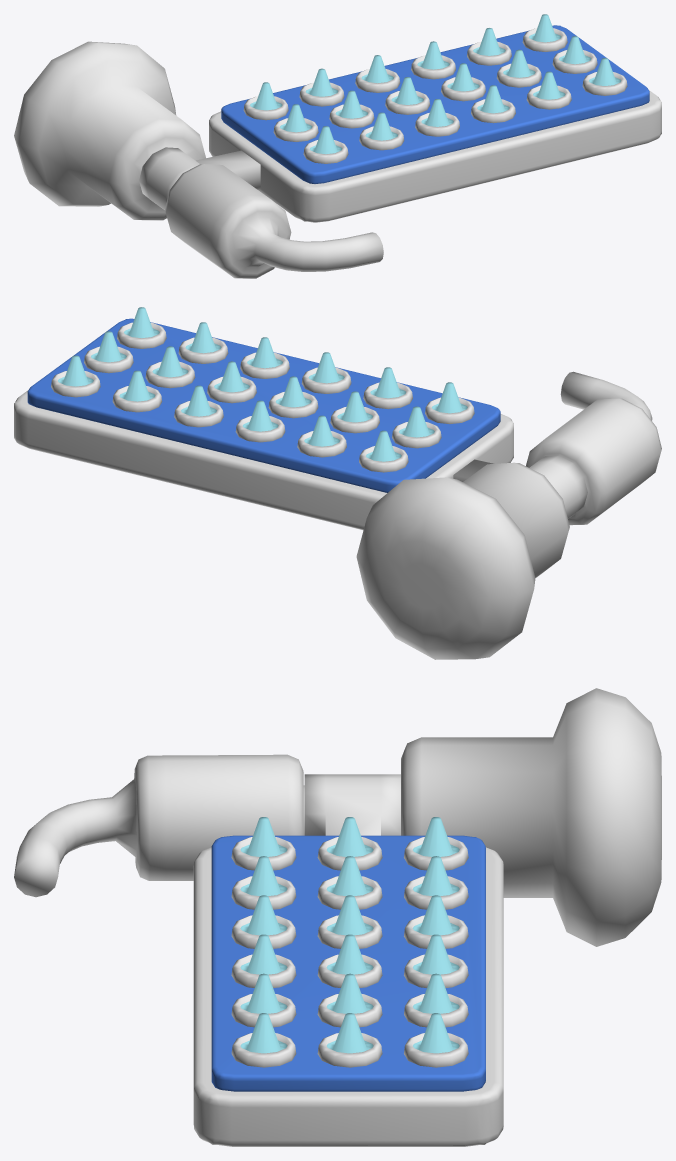
Rendered from Barbedspin.fbx.
3 views of the same model, one above another, from view 1: azimuth 30°, elevation 25°; view 2: azimuth 150°, elevation 25°; view 3: azimuth 270°, elevation 25° (orthographic). The views are drawn at different scales.
Visible parts, largest first — view 1: NurbsPath.001, NurbsPath; view 2: NurbsPath.001, NurbsPath; view 3: NurbsPath.001, NurbsPath.
Boxes of the visible parts, x1,y1,x2,y2 form: NurbsPath.001: (139, 14, 661, 222); NurbsPath: (14, 41, 383, 278); NurbsPath.001: (14, 307, 587, 530); NurbsPath: (356, 371, 661, 659); NurbsPath.001: (193, 774, 503, 1146); NurbsPath: (14, 688, 661, 946).
Size of the model in its own units: 3.54 by 1.08 by 2.68.
